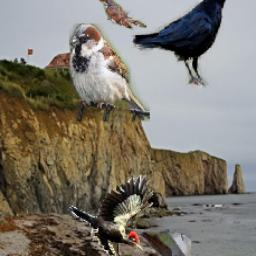Crow: (132, 0, 240, 89)
Cuckoo: (99, 0, 148, 30), (140, 229, 192, 256)
Sparrow: (69, 23, 150, 122)
Woodpecker: (68, 175, 154, 256)
